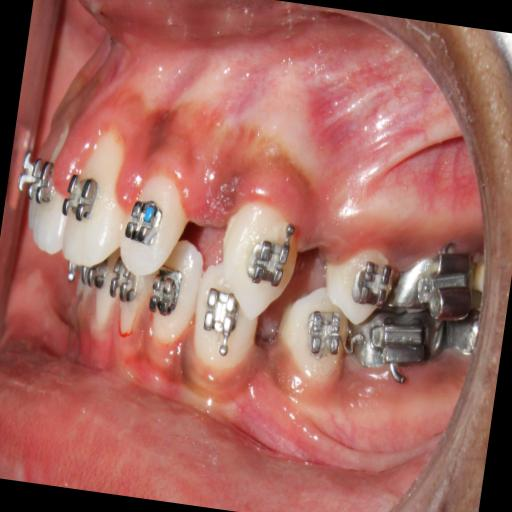correct_brace: (322, 240, 395, 329), (59, 168, 102, 224), (247, 238, 290, 290), (126, 196, 164, 248)
incorrect_brace: (118, 168, 190, 278), (350, 258, 393, 310)
